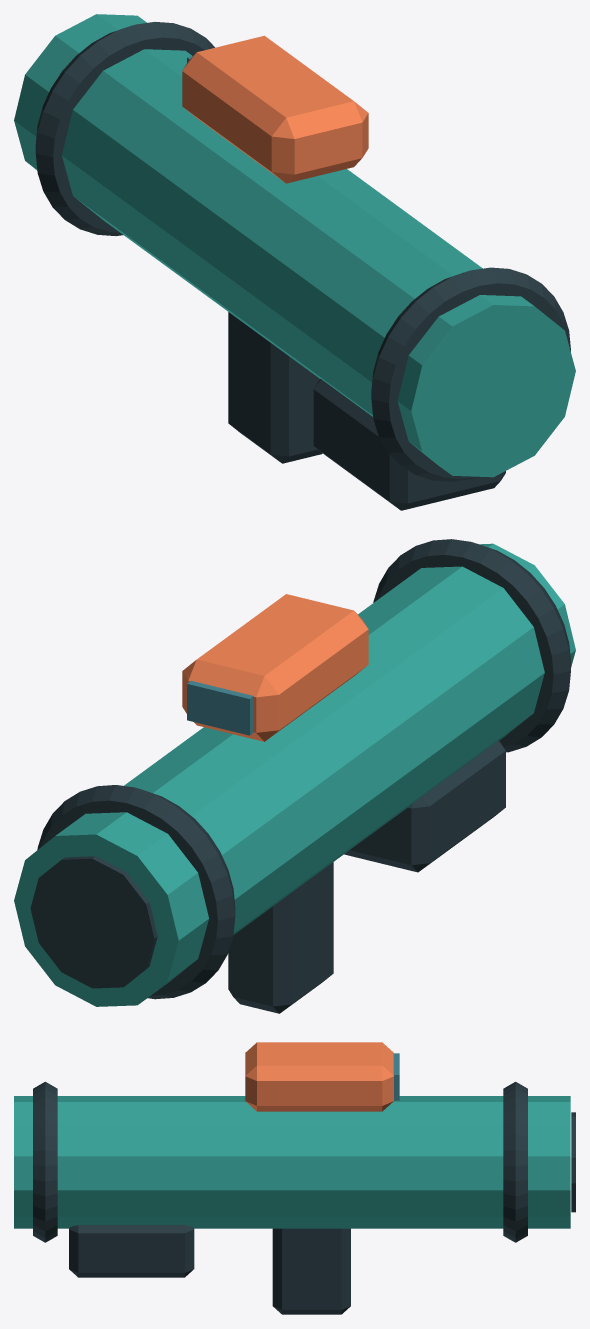
The model's file is launcher.glb.
The picture shows the model from 3 angles, top to bottom: view 1: azimuth 30°, elevation 25°; view 2: azimuth 150°, elevation 25°; view 3: azimuth 270°, elevation 25°; orthographic projection. The views are drawn at different scales.
Visible parts, largest first — view 1: launcher.Root_Teal, launcher.Root_Dark, launcher.Root_Orange; view 2: launcher.Root_Teal, launcher.Root_Dark, launcher.Root_Orange, launcher.Root_Glass; view 3: launcher.Root_Teal, launcher.Root_Dark, launcher.Root_Orange.
Boxes of the visible parts, x1,y1,x2,y2 form: launcher.Root_Teal: (14,14,575,477); launcher.Root_Dark: (35,22,570,510); launcher.Root_Orange: (182,35,368,183); launcher.Root_Teal: (14,543,575,1006); launcher.Root_Dark: (30,539,570,1013); launcher.Root_Orange: (182,594,368,741); launcher.Root_Glass: (187,681,253,735); launcher.Root_Teal: (14,1096,570,1228); launcher.Root_Dark: (33,1081,575,1314); launcher.Root_Orange: (245,1042,393,1111).
Bounding box in the file's own units: 0.206 × 0.3575 × 0.717.
